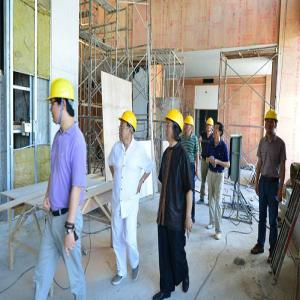none: (213, 123, 225, 143)
yellow: (47, 79, 75, 129), (164, 109, 184, 147), (118, 110, 138, 147), (265, 109, 279, 137), (183, 115, 195, 138), (206, 117, 214, 134)
